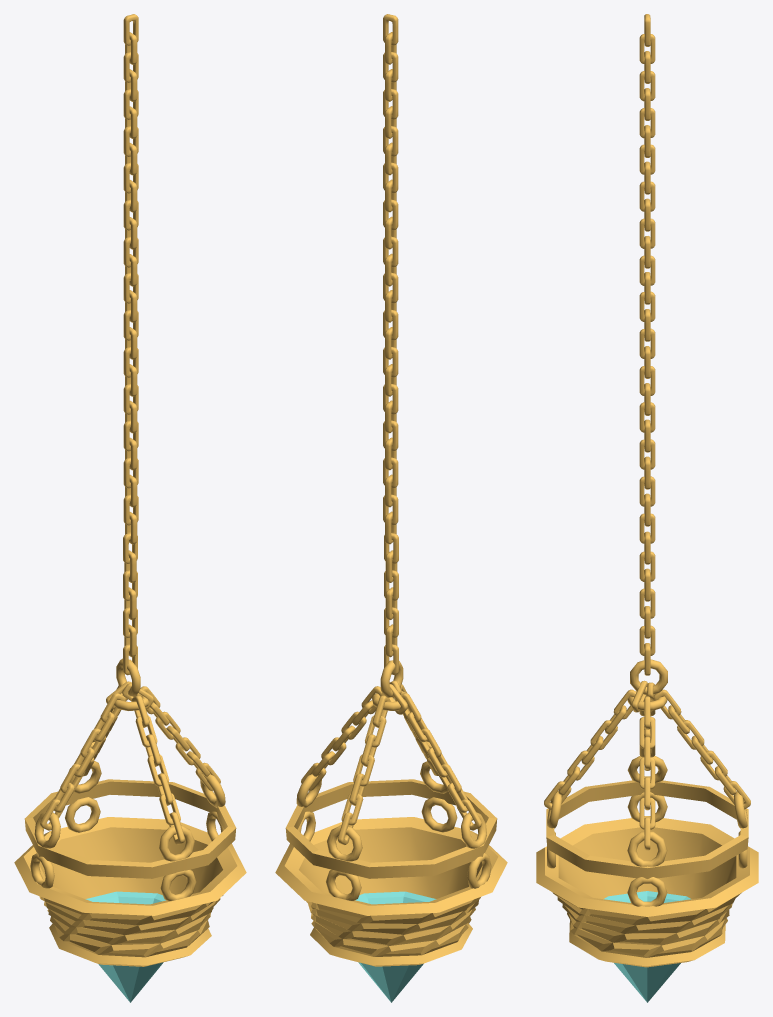
File: M_LongHangingLantern.fbx
The picture shows the model from 3 angles, left to right: view 1: azimuth 30°, elevation 25°; view 2: azimuth 150°, elevation 25°; view 3: azimuth 270°, elevation 25°; orthographic projection.
Visible parts, largest first — view 1: HangingLantern, LanternRing, Crystal, LanternHook02, LanternHook05, LanternHook01, LanternHook08, LanternHook04, LanternHook10; view 2: HangingLantern, LanternRing, Crystal, LanternHook01, LanternHook06, LanternHook02, LanternHook08, LanternHook04; view 3: HangingLantern, LanternRing, Crystal, LanternHook07, LanternHook03, LanternHook10, LanternHook04.
Boxes of the visible parts, x1,y1,x2,y2 form: HangingLantern: (14, 817, 246, 966); LanternRing: (24, 779, 236, 878); Crystal: (85, 891, 165, 1002); LanternHook02: (65, 797, 100, 832); LanternHook05: (159, 825, 194, 861); LanternHook01: (160, 869, 196, 900); LanternHook08: (34, 812, 60, 848); LanternHook04: (30, 852, 54, 888); LanternHook10: (116, 658, 140, 696); HangingLantern: (275, 817, 507, 966); LanternRing: (285, 779, 497, 878); Crystal: (355, 891, 436, 1002); LanternHook01: (421, 797, 457, 832); LanternHook06: (327, 825, 362, 861); LanternHook02: (326, 869, 361, 900); LanternHook08: (461, 812, 486, 848); LanternHook04: (467, 853, 491, 888); HangingLantern: (536, 818, 758, 967); LanternRing: (546, 780, 748, 878); Crystal: (603, 891, 691, 1002); LanternHook07: (627, 831, 667, 866); LanternHook03: (627, 877, 667, 906); LanternHook10: (630, 659, 667, 694); LanternHook04: (627, 792, 667, 822).
Bounding box in the file's own units: 93.17 × 434 × 88.61.
